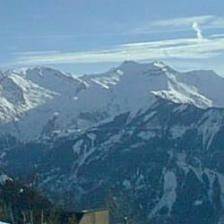neutral: (1, 13, 221, 224)
